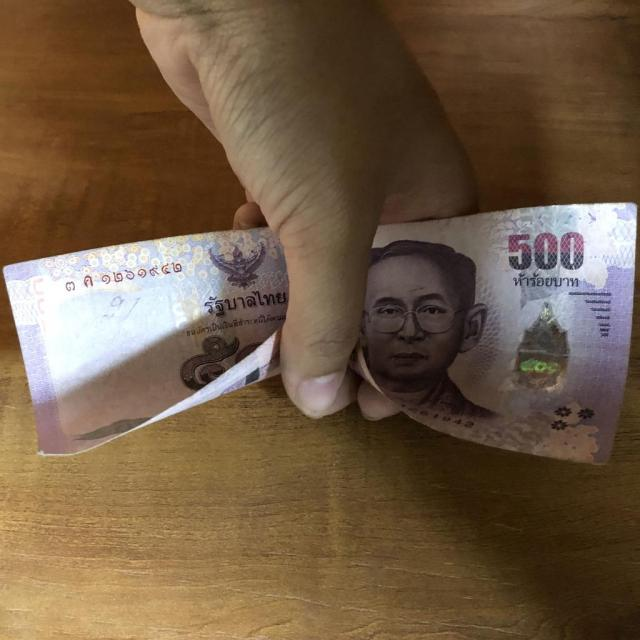THAI500: (345, 203, 639, 466), (1, 228, 289, 459)
